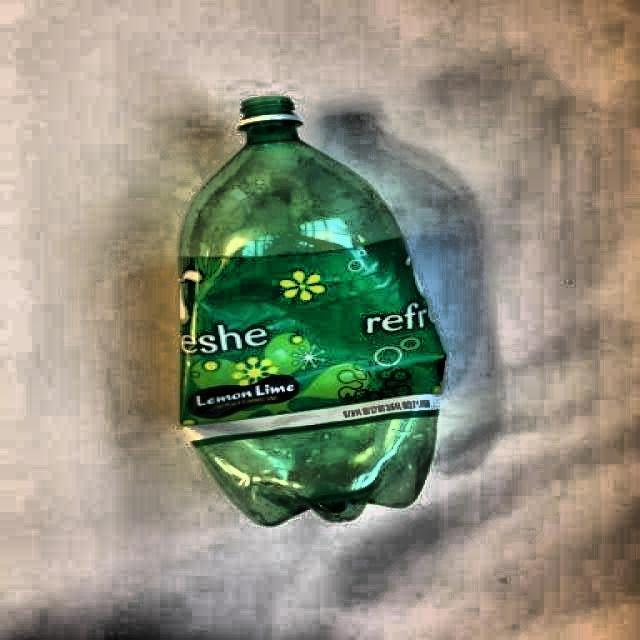plastic: (179, 97, 445, 525)
